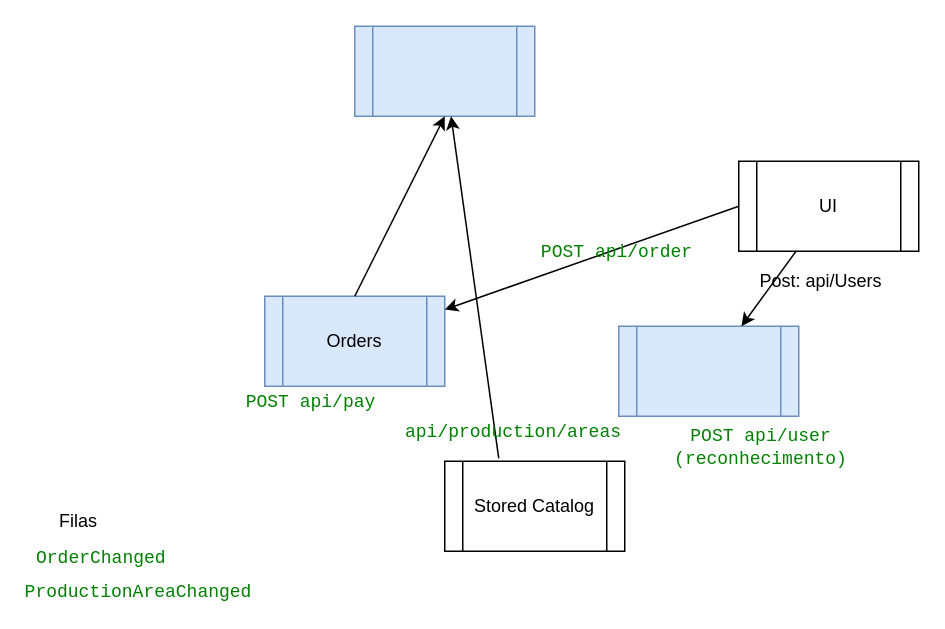
Image size: 945x629. Some labels were removed from this diagram. Each missing label, with the centre of its shape:
Production: the point at 444,70
Users: the point at 708,370
